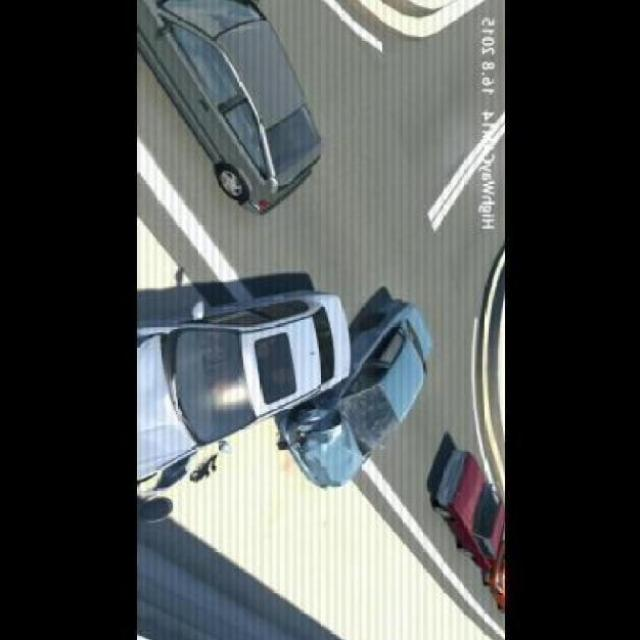accident: (113, 271, 431, 498)
